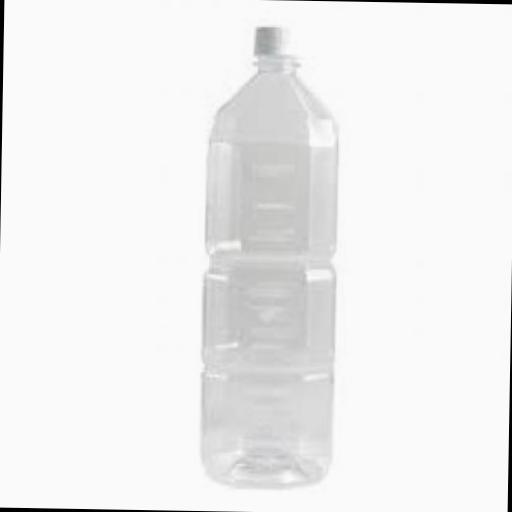plastic: (198, 22, 346, 491), (256, 22, 308, 62)
